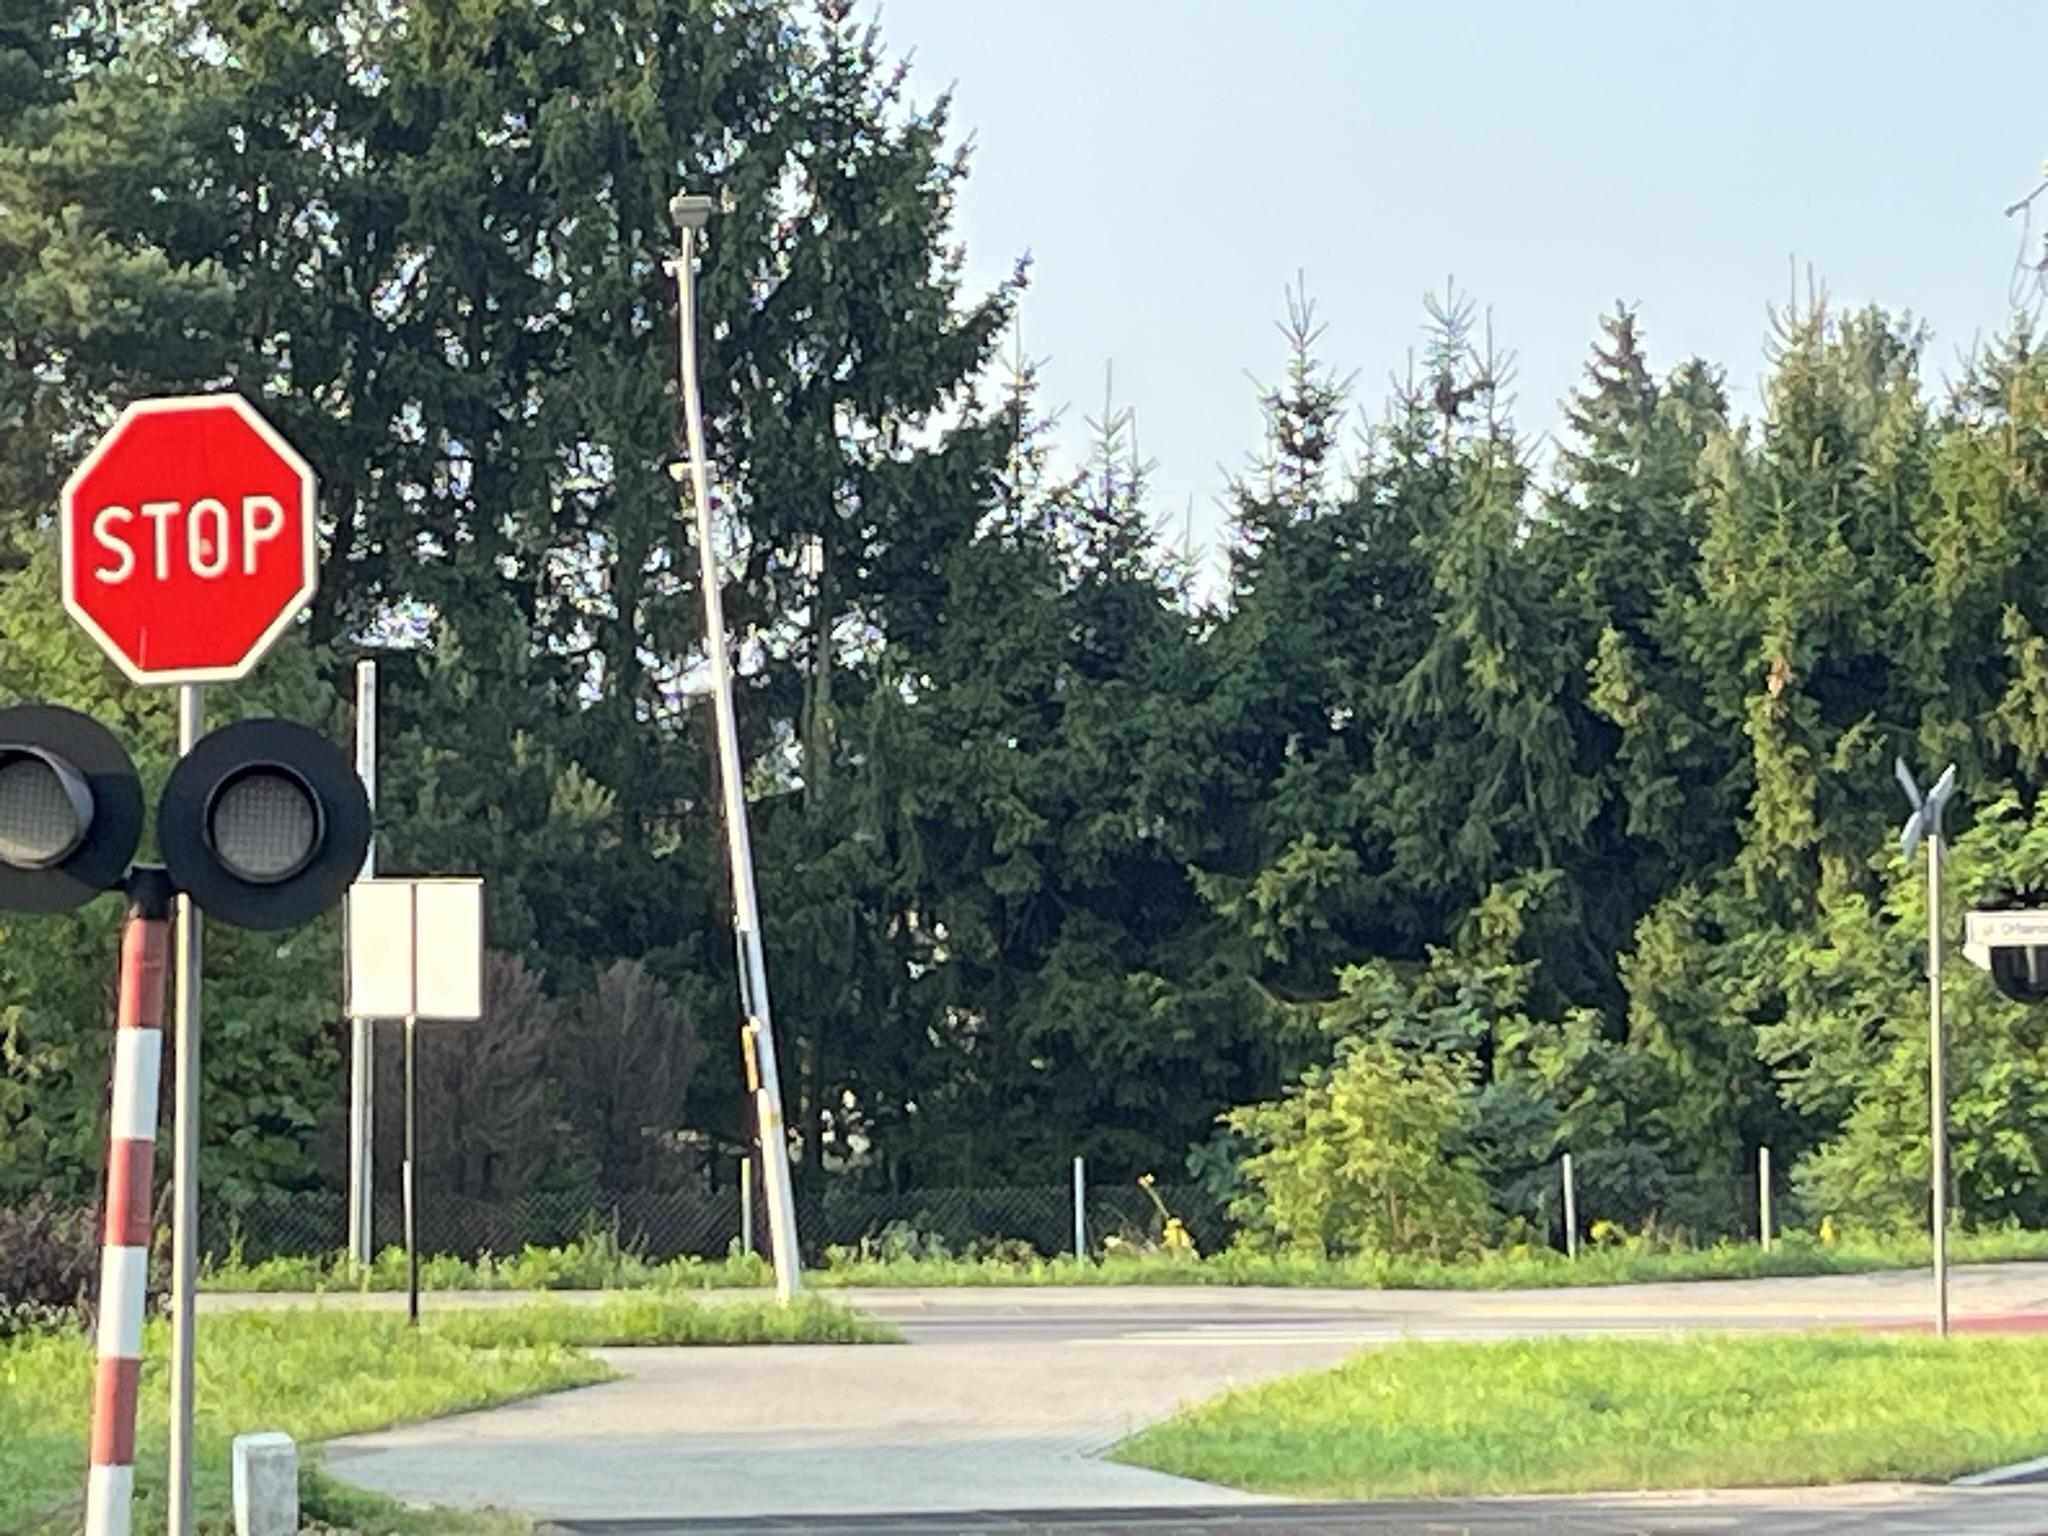prohibitory: (56, 387, 323, 686)
